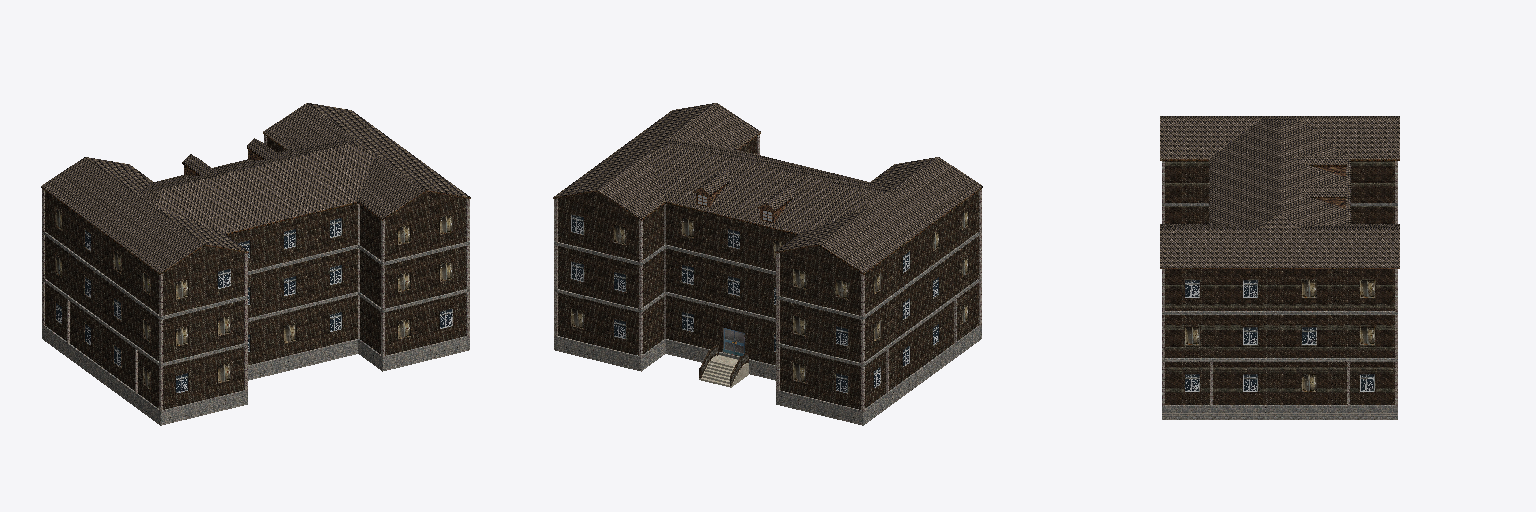
3 views of the same model, side by side, from view 1: azimuth 30°, elevation 25°; view 2: azimuth 150°, elevation 25°; view 3: azimuth 270°, elevation 25° (orthographic).
Visible parts, largest first — view 1: building_005_building_005_mesh.001; view 2: building_005_building_005_mesh.001; view 3: building_005_building_005_mesh.001.
Part boxes in pixels (left/top/right/bottom): building_005_building_005_mesh.001: left=41, top=103, right=470, bottom=425; building_005_building_005_mesh.001: left=553, top=103, right=982, bottom=425; building_005_building_005_mesh.001: left=1160, top=116, right=1399, bottom=419.
Size of the model in its own units: 22.14 by 12.15 by 14.74.
Materials: 12 (11 with a texture image).